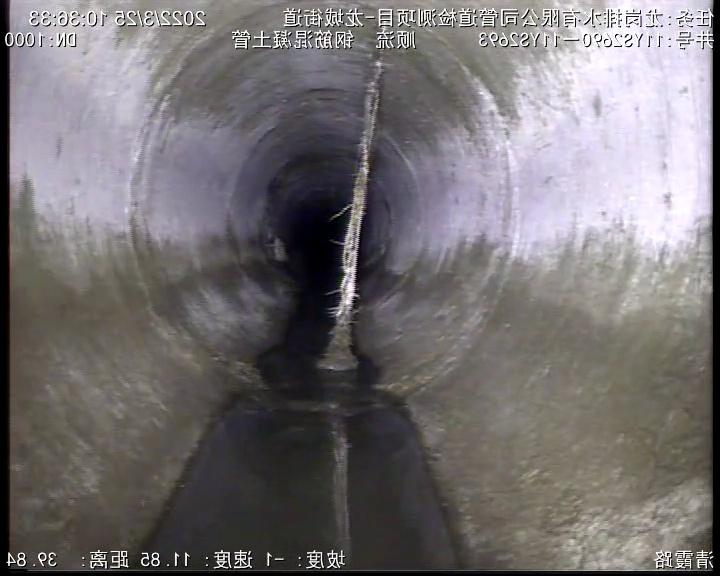SG: (319, 56, 383, 371)
